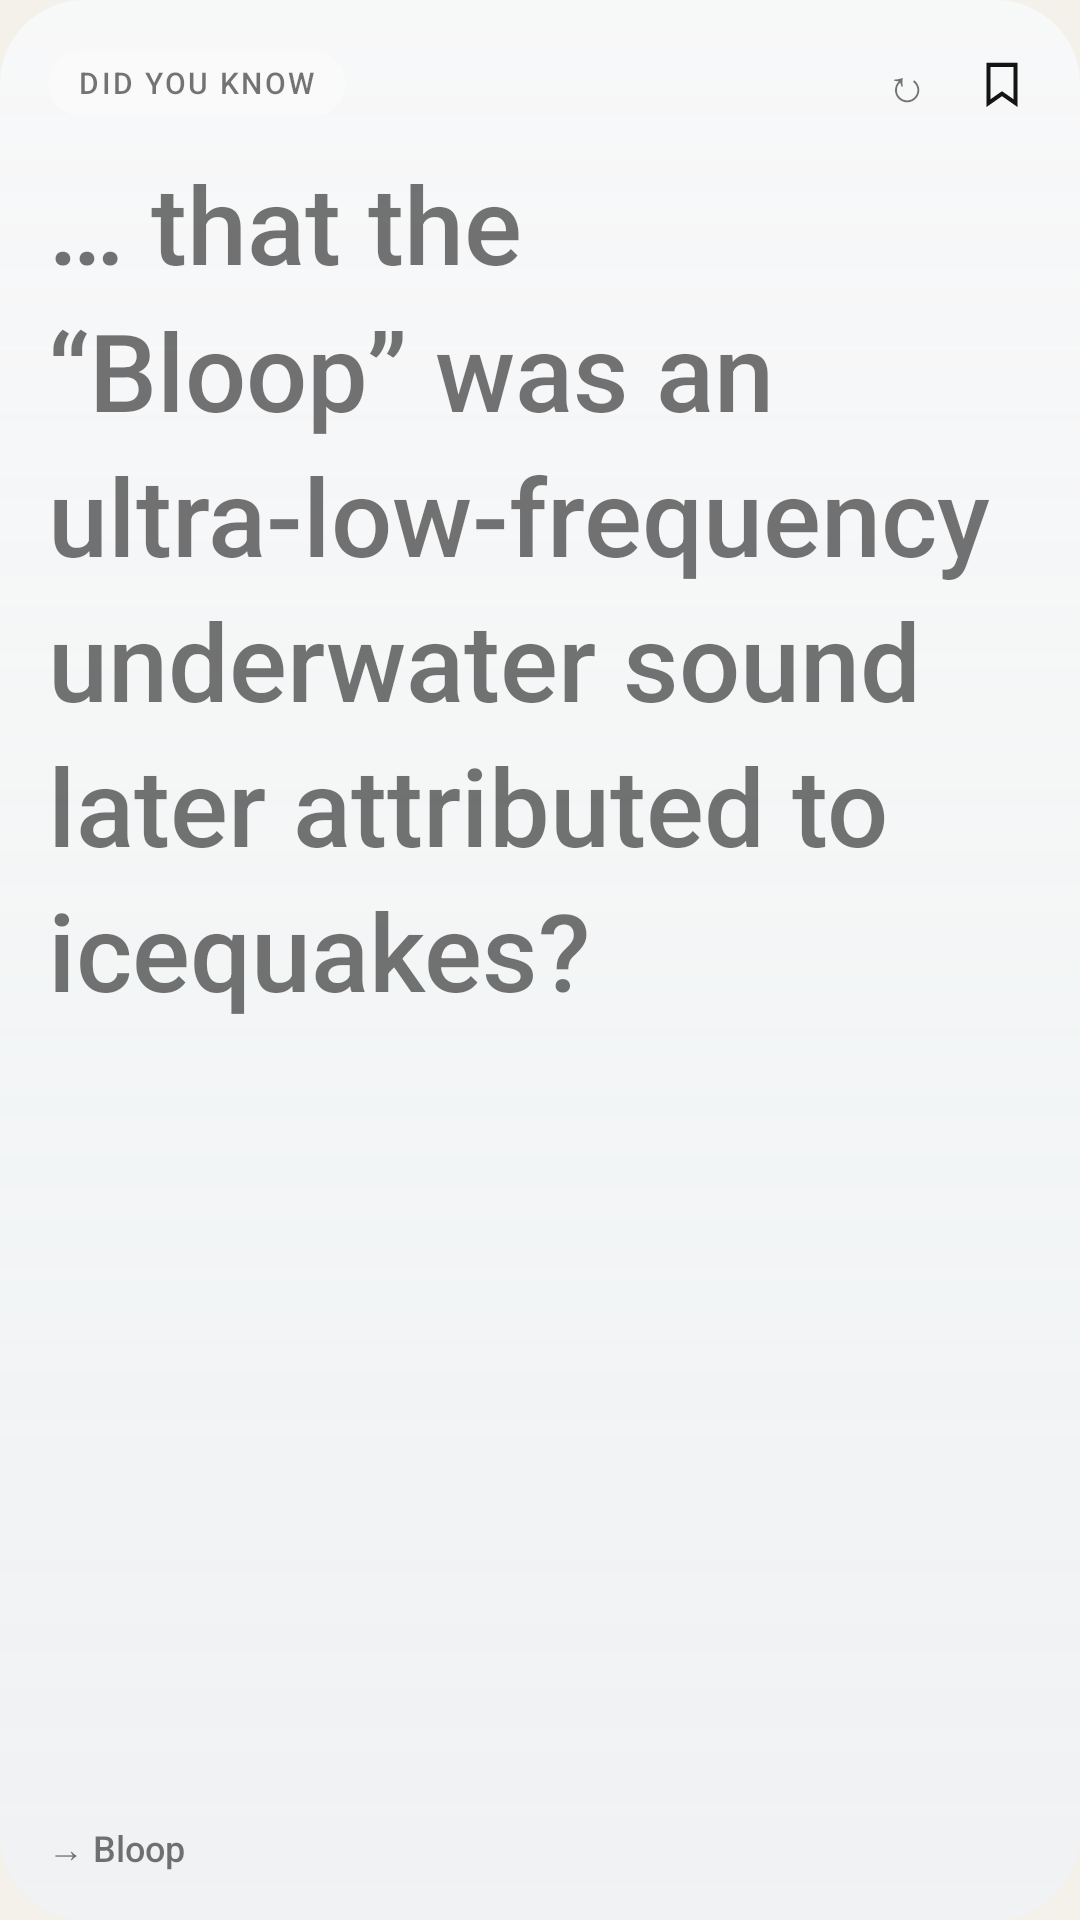

Named icons in this screenshot (1080×1920) and their centers, [x,y]:
Save or unsave: [1002,84]
